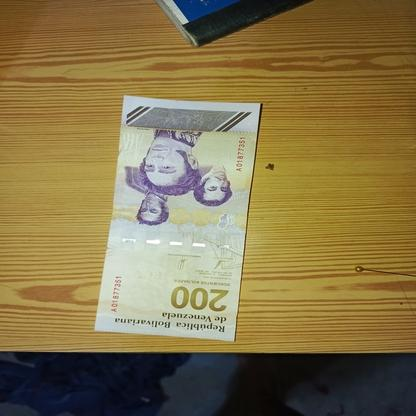two_hundred-front-vef: (93, 95, 260, 342)
